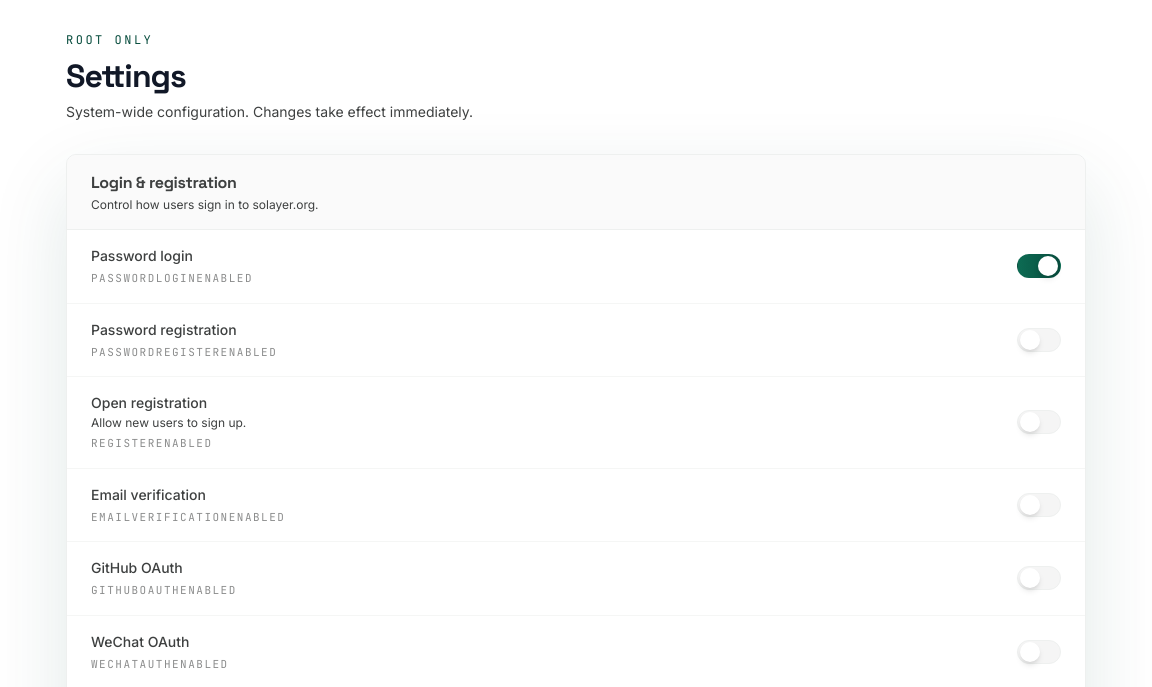
/console/settings option save errors › surfaces the API error when saving an option fails
# First switch is PasswordLoginEnabled (first field of the auth section).
Step 1. Click the switch in the row of "PasswordLoginEnabled" → (1039, 266), box [1017,254,1061,278]
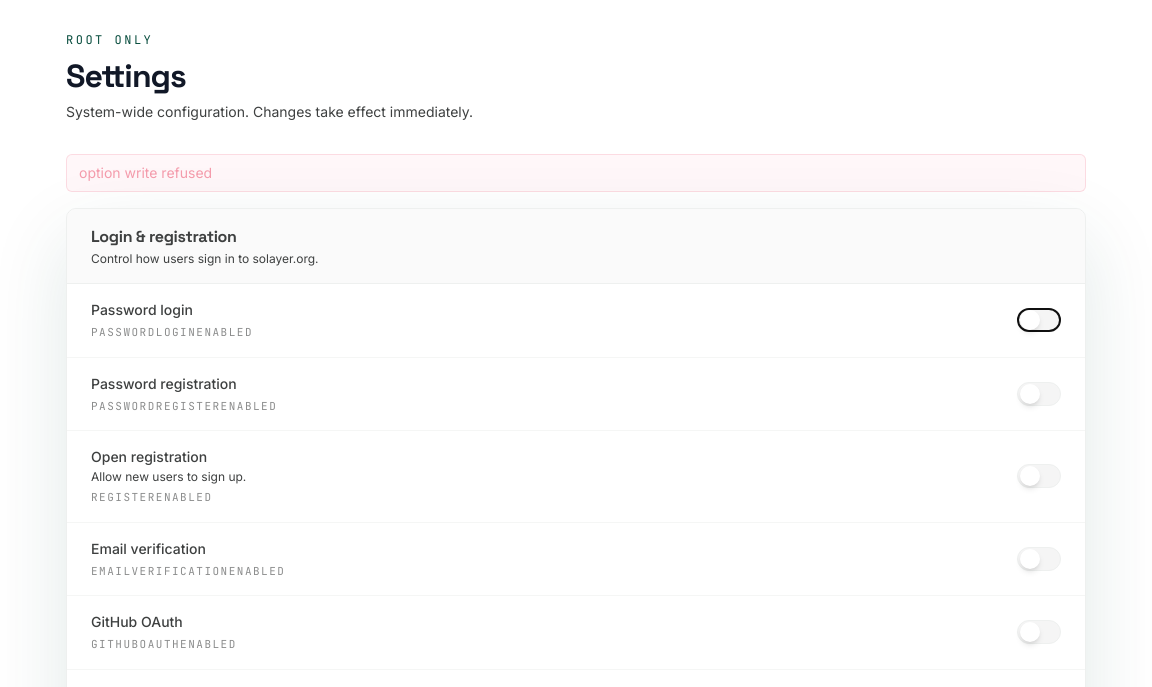
Expected: the text "option write refused" is shown, [66,154,1086,192]
